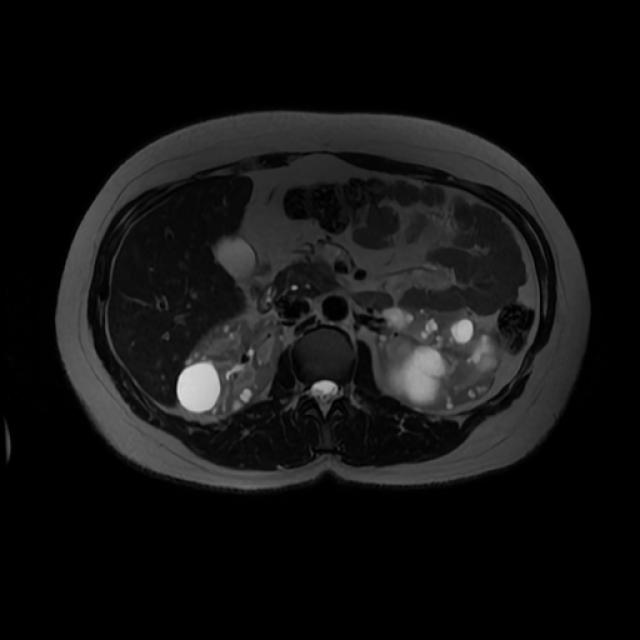sag: (176, 313, 285, 420)
sol: (373, 306, 507, 414)
